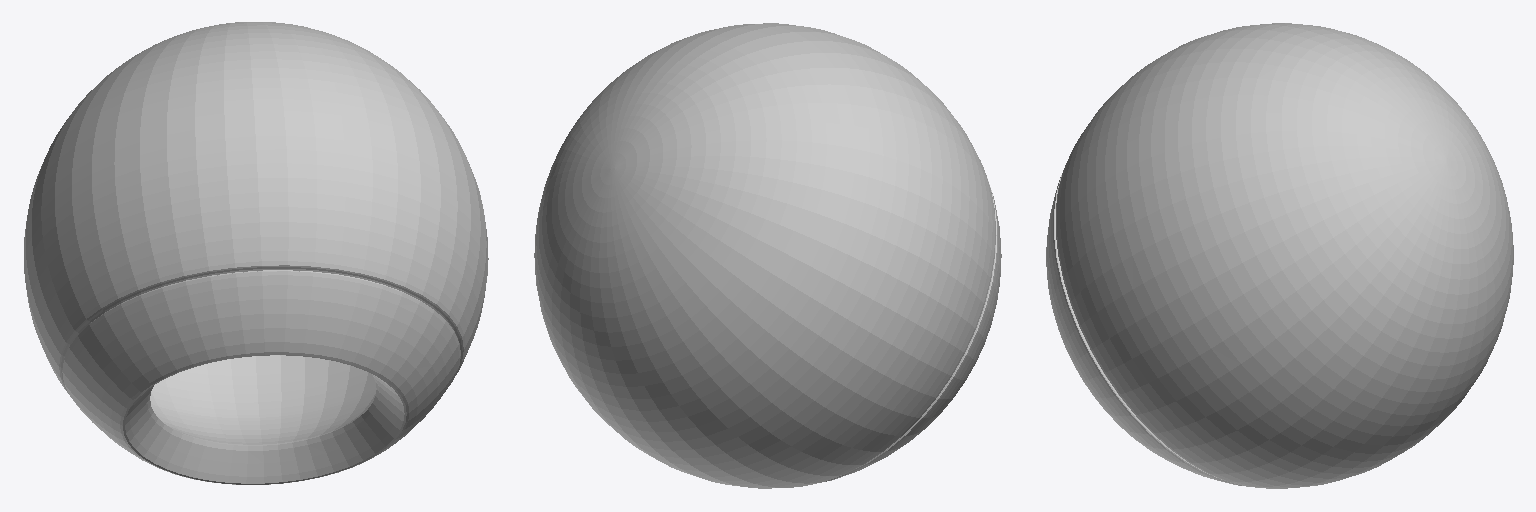
File: matball_outer.obj
The picture shows the model from 3 angles: view 1: azimuth 30°, elevation 25°; view 2: azimuth 150°, elevation 25°; view 3: azimuth 270°, elevation 25°; orthographic projection.
Parts seen in each view (by area): view 1: obj_[number redacted]; view 2: obj_[number redacted]; view 3: obj_[number redacted].
Boxes of the visible parts, <box> form: obj_[number redacted]: <box>24,22,488,484</box>; obj_[number redacted]: <box>534,23,1001,488</box>; obj_[number redacted]: <box>1046,23,1513,488</box>.
Bounding box in the file's own units: 0.3969 × 0.3986 × 0.3988.